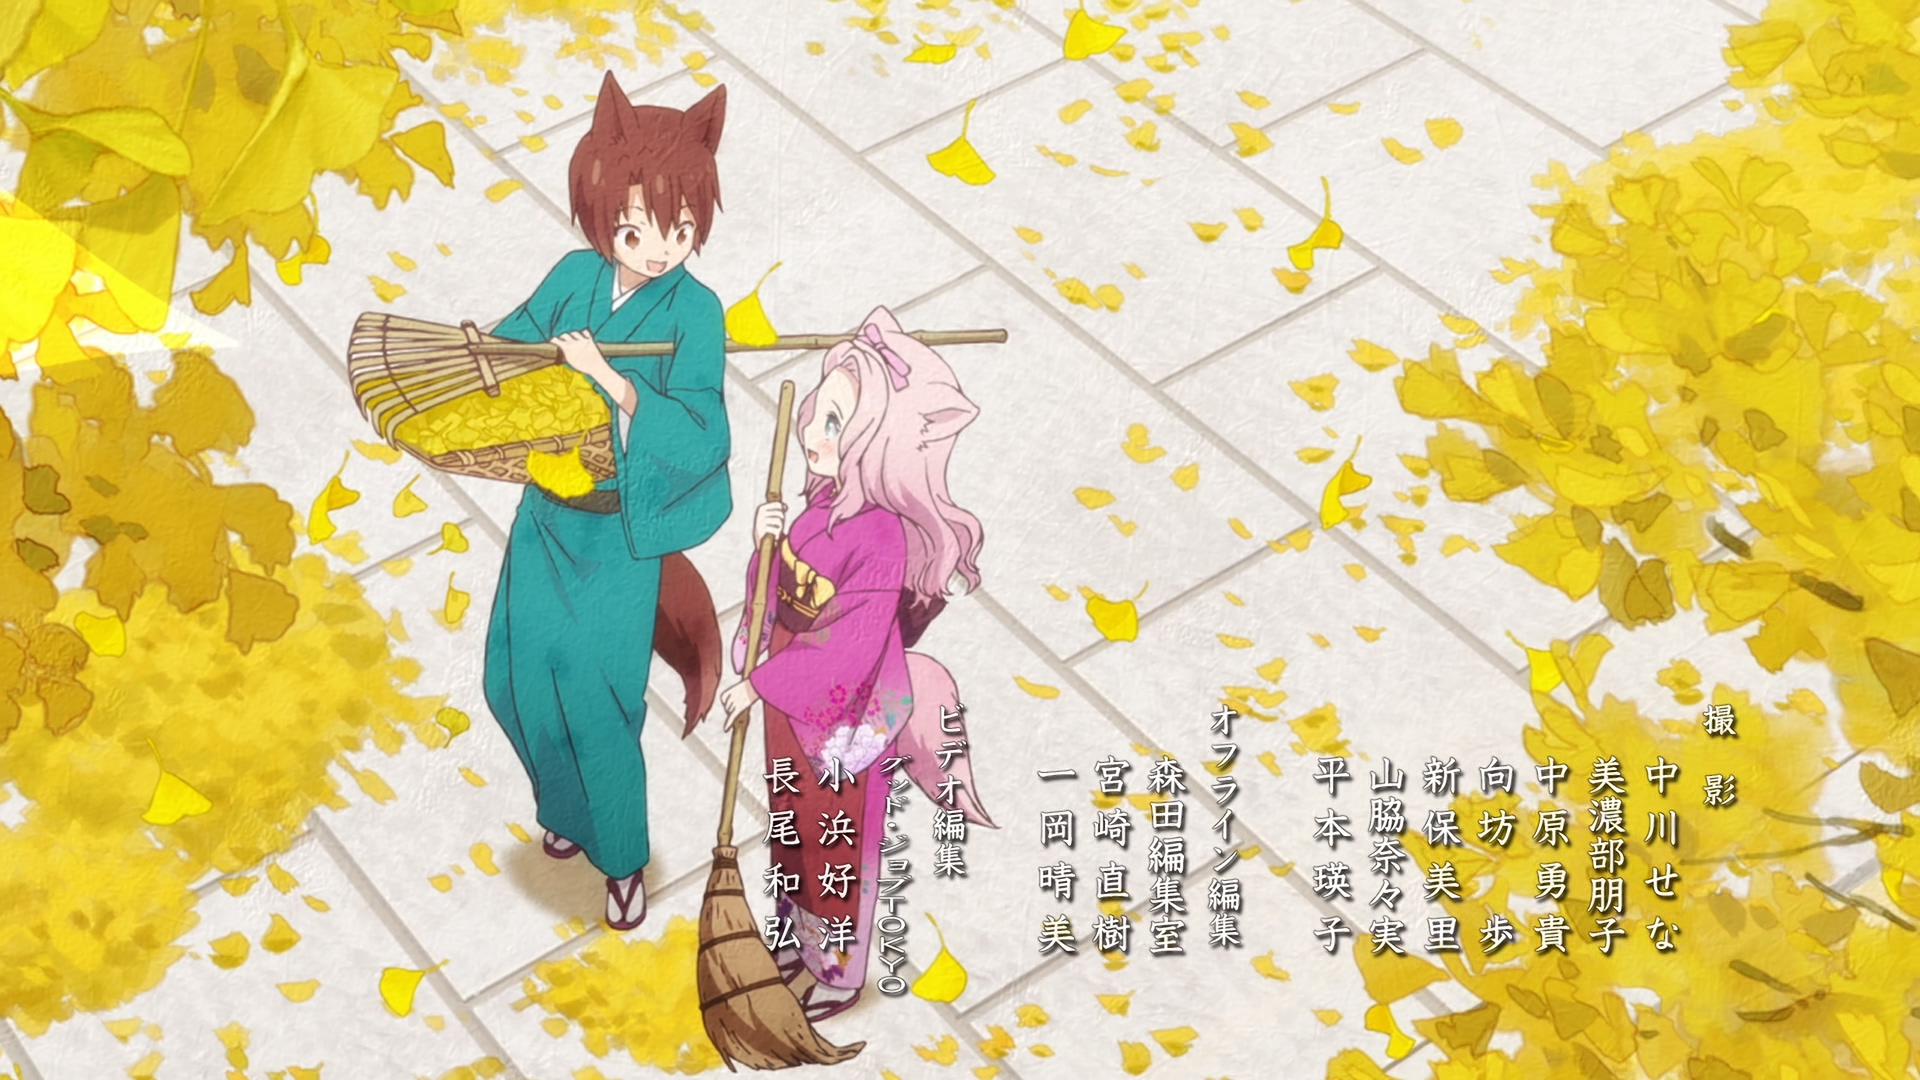枣: (477, 73, 735, 935)
莲: (717, 305, 997, 1023)
